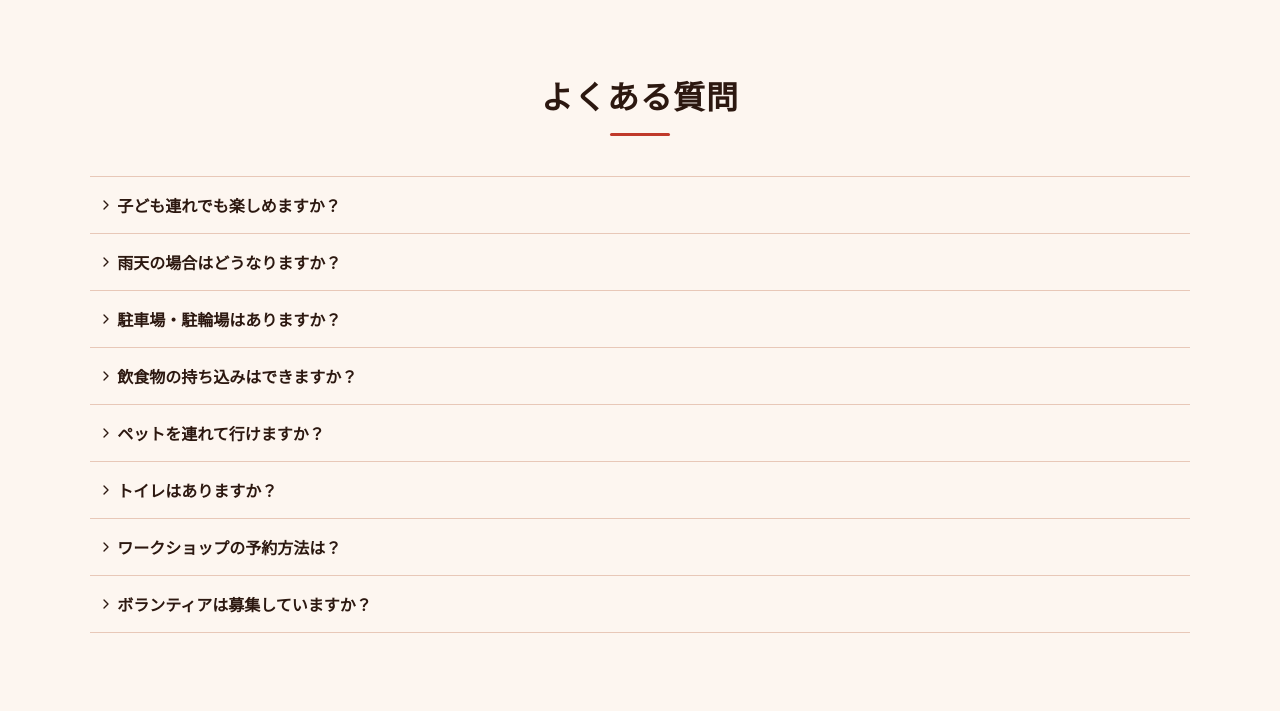
Test case: FaqSection コンポーネント › 質問をクリックするとaria-expandedがtrueになる
Note:  クリックで開く
What coordinates should you click on to do the following:
click the button "子ども連れでも楽しめますか？"
I would click on:
 (229, 206)
Its box is [90, 177, 1190, 233].
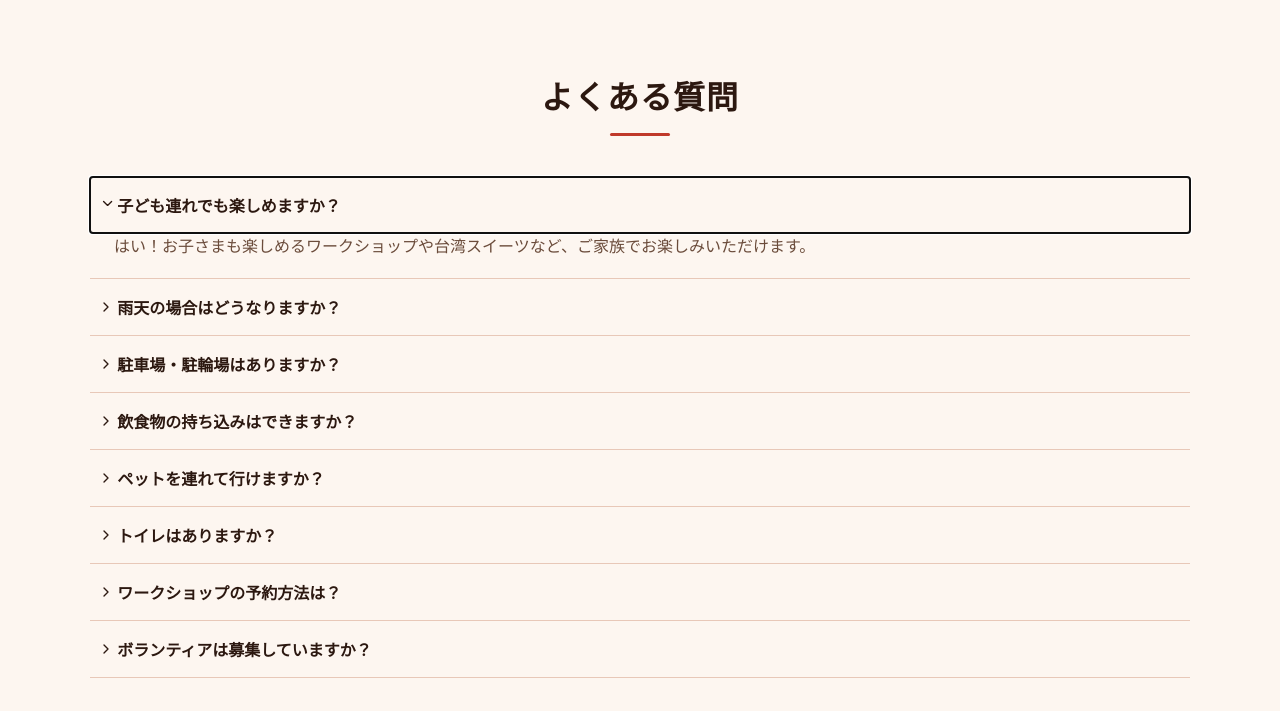
Expected: the button "子ども連れでも楽しめますか？" is expanded, [90, 177, 1190, 233]
